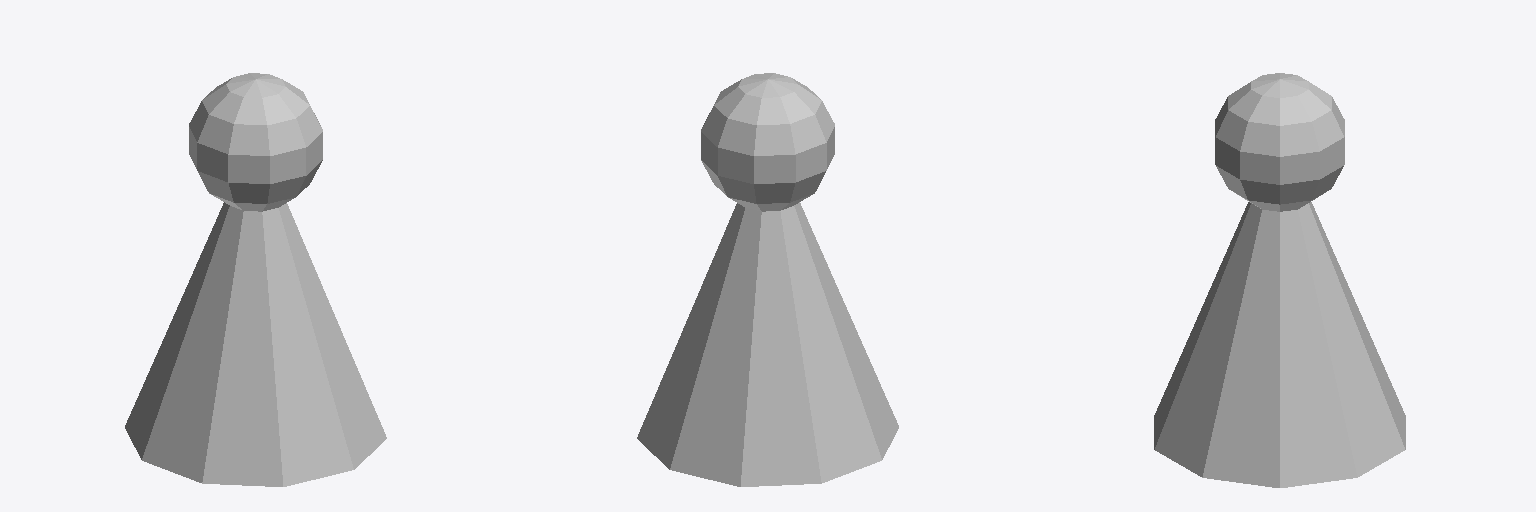
Rendered from man.obj.
3 views of the same model, side by side, from view 1: azimuth 30°, elevation 25°; view 2: azimuth 150°, elevation 25°; view 3: azimuth 270°, elevation 25° (orthographic).
Visible parts, largest first — view 1: man; view 2: man; view 3: man.
Part boxes in pixels (x1,y1,x2,y2): man: (125,73,386,486); man: (637,73,898,486); man: (1154,73,1405,487).
Bounding box in the file's own units: 0.0954 × 0.1408 × 0.0907.